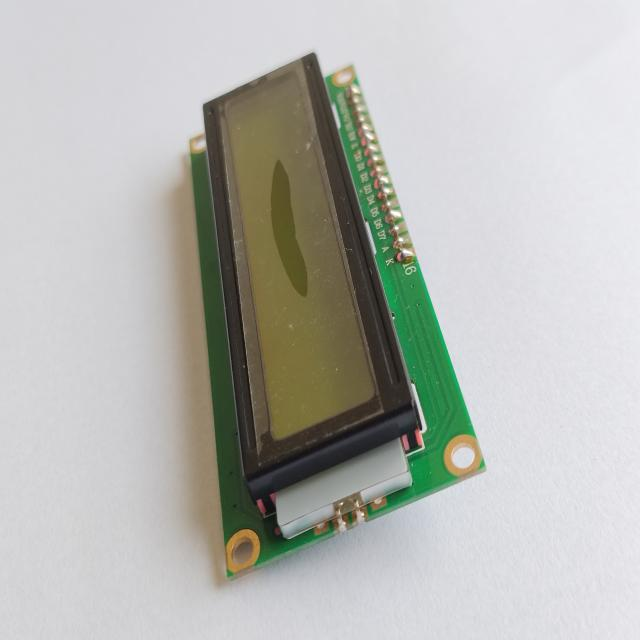lcd: (188, 51, 487, 580)
